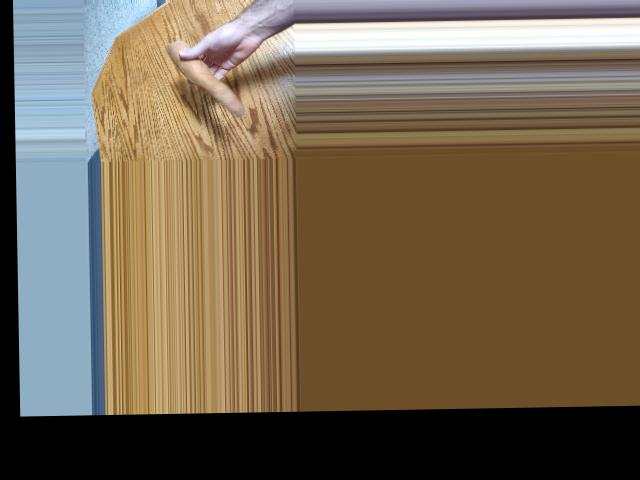sweet_potato: (169, 38, 243, 116)
